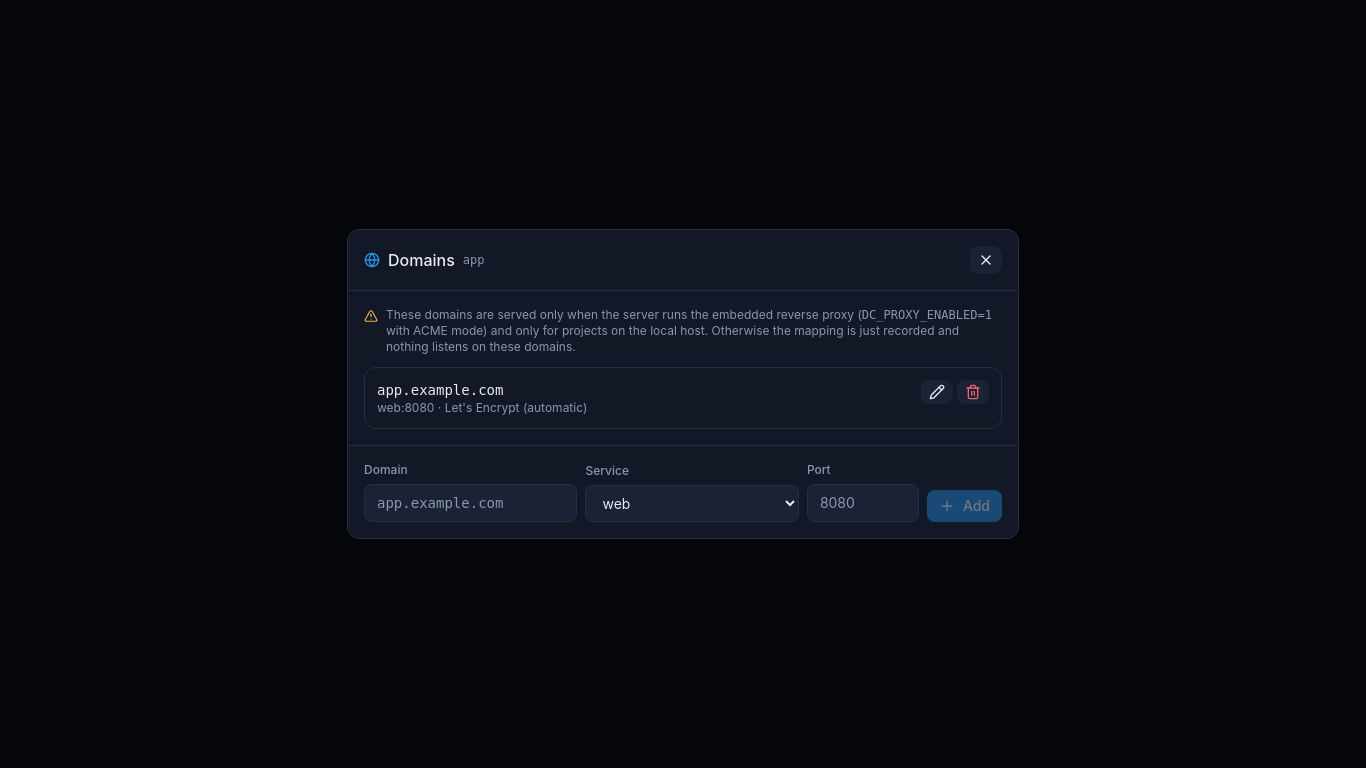
Scenario: ProjectDomainsModal › warns in the delete confirmation that a served domain goes offline
Click the button titled "Delete".
click(973, 392)  # box [957, 380, 989, 404]
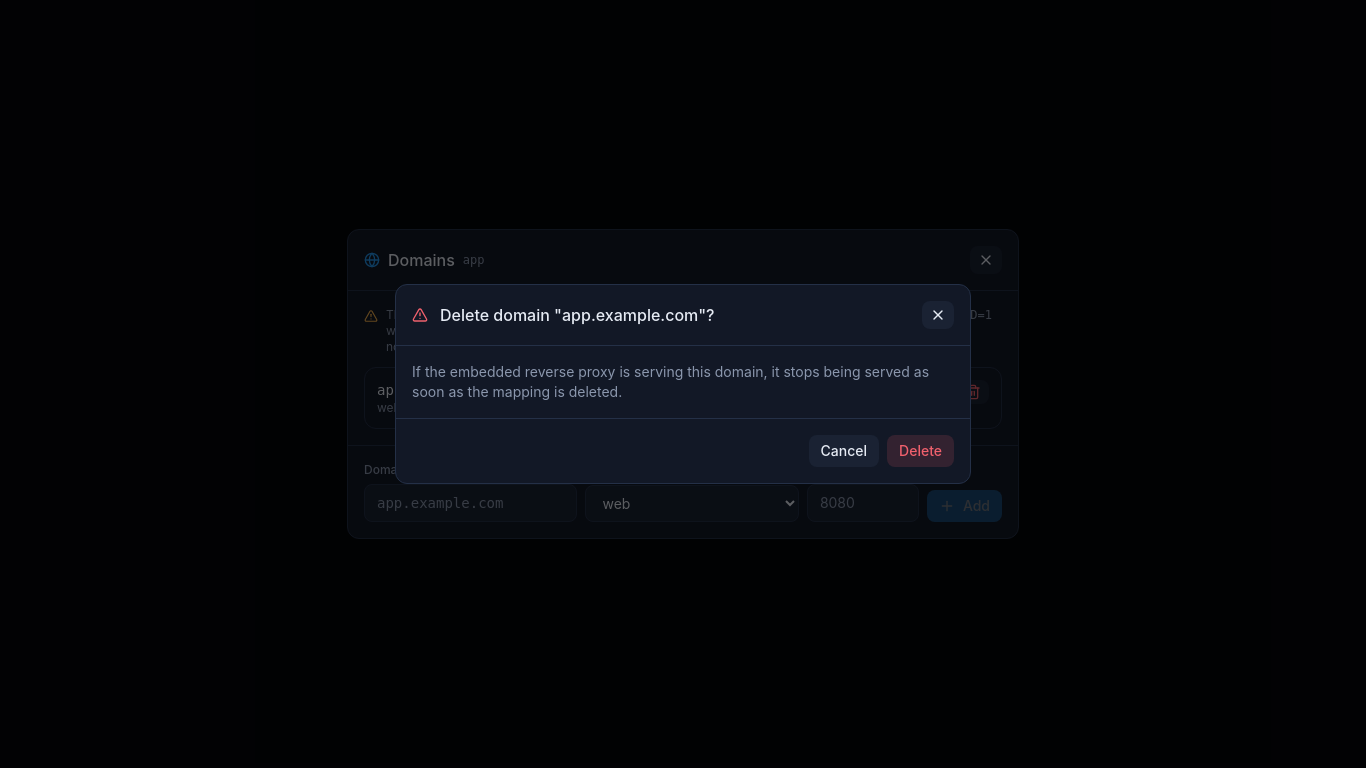
Check: the text "Delete domain \"app.example.com\"?" is shown, box [440, 303, 714, 327]
Check: the text "stops being served" is shown, box [412, 363, 929, 400]
